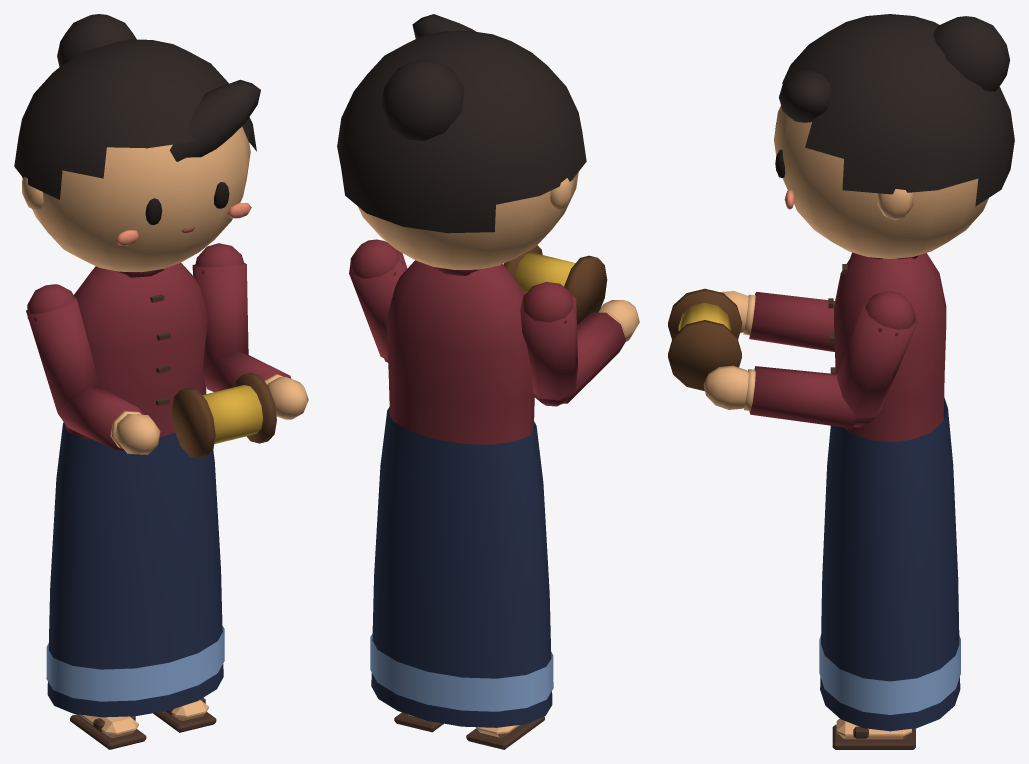
The model's file is isan_silk_spinner.glb.
3 renders of one model, left to right at view 1: azimuth 30°, elevation 25°; view 2: azimuth 150°, elevation 25°; view 3: azimuth 270°, elevation 25°, orthographic. The views are drawn at different scales.
Parts seen in each view (by area): view 1: body, head, prop_thread_spool, arm_R, arm_L, forearm_R, forearm_L, shin_R, shin_L; view 2: body, head, arm_R, prop_thread_spool, arm_L, forearm_R, shin_R; view 3: body, head, forearm_L, arm_L, prop_thread_spool, forearm_R, shin_L.
Boxes of the visible parts, x1,y1,x2,y2 form: body: (46, 262, 224, 717); head: (14, 14, 260, 272); prop_thread_spool: (171, 373, 276, 458); arm_R: (26, 284, 99, 420); arm_L: (192, 243, 248, 380); forearm_R: (58, 386, 160, 454); forearm_L: (202, 351, 308, 419); shin_R: (70, 714, 146, 749); shin_L: (153, 697, 216, 732); body: (370, 260, 553, 727); head: (337, 14, 586, 269); arm_R: (520, 282, 577, 406); prop_thread_spool: (503, 245, 607, 324); arm_L: (349, 239, 407, 362); forearm_R: (533, 300, 639, 404); shin_R: (466, 716, 544, 749); body: (819, 253, 960, 731); head: (774, 14, 1014, 258); forearm_L: (703, 365, 874, 428); arm_L: (837, 291, 917, 427); prop_thread_spool: (668, 288, 741, 391); forearm_R: (720, 291, 834, 351); shin_L: (832, 718, 915, 749).
Bounding box in the file's own units: 0.4938 × 1.47 × 0.6572.
